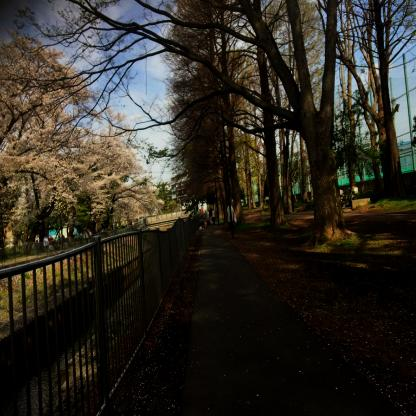Someiyoshino: (0, 15, 167, 240)
